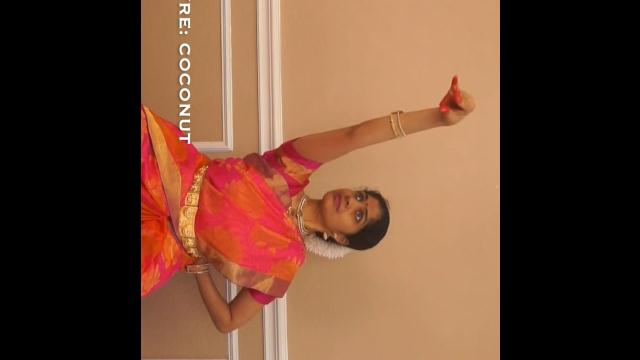kangul: (418, 40, 478, 144)
